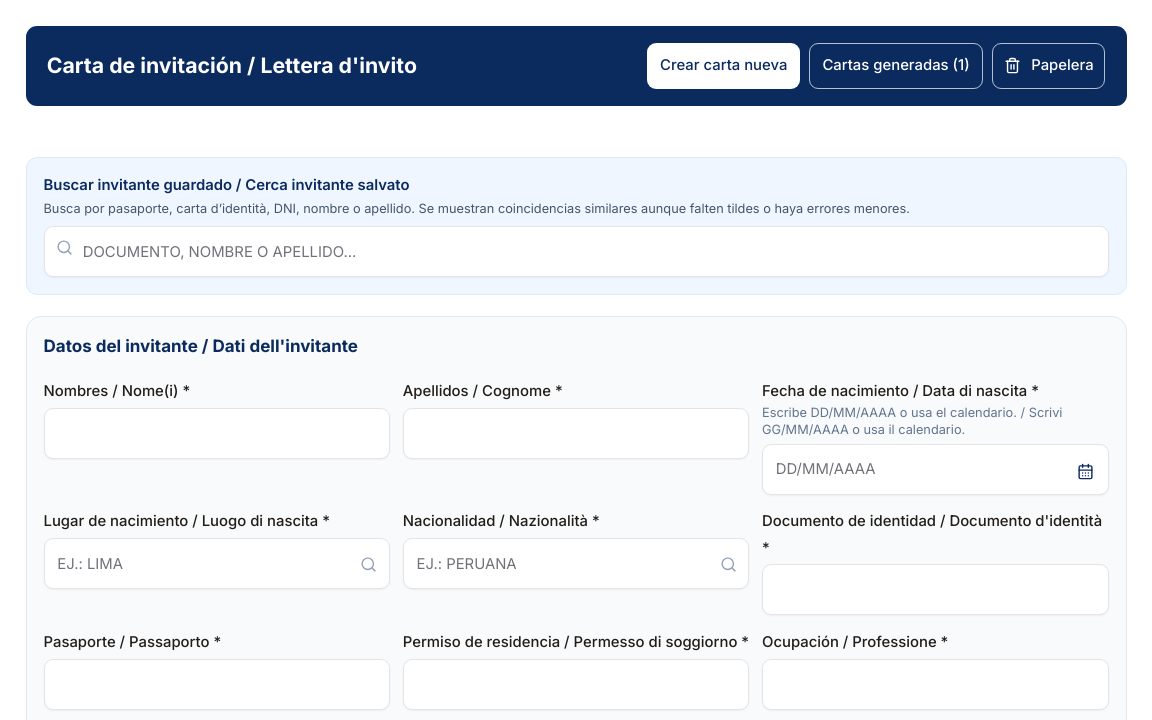
Test: InvitationLetterWorkspace › sends a letter to the reversible trash and restores it from the trash panel
Later steps or results of the test are not shown.
What coordinates should you click on to do the following:
click the tab "Cartas generadas (1)"
I would click on:
 (896, 66)
Its box is [809,42,983,89].
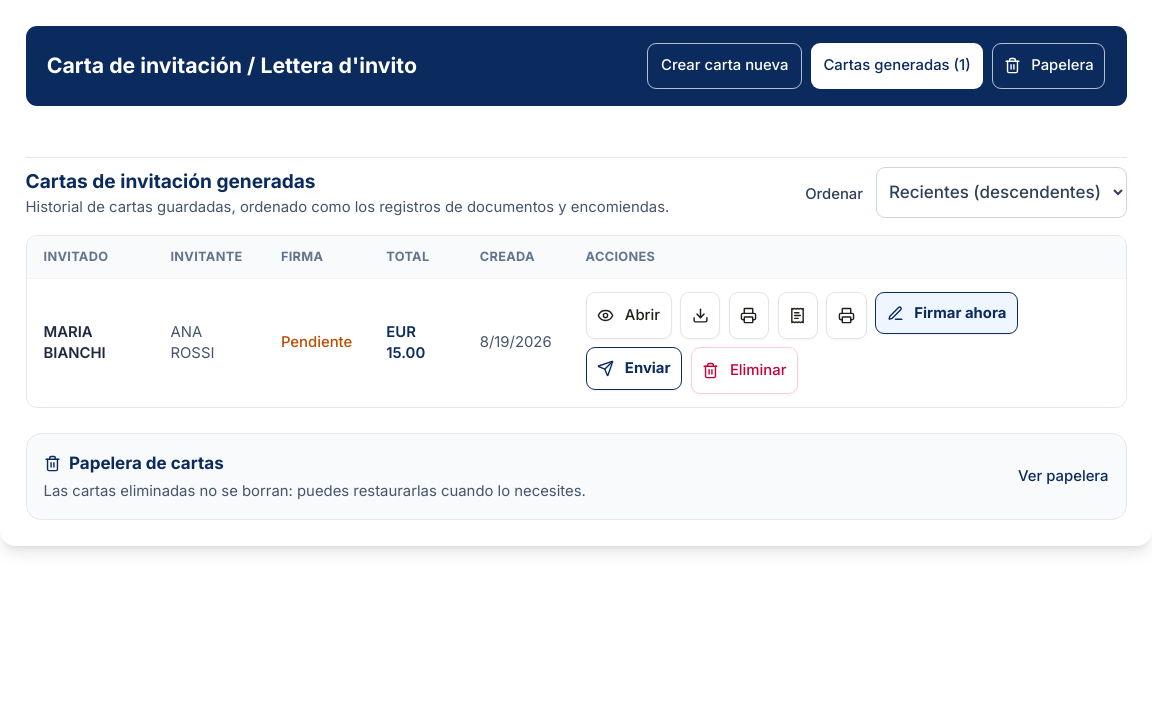
What coordinates should you click on to do the following:
click the button with aria-label "Enviar a papelera la carta de MARIA BIANCHI"
I would click on:
 (744, 371)
Its box is [691,347,798,394].
What coordinates should you click on to do the following:
click the button named "Ver papelera"
I would click on:
 (146, 463)
Its box is [44,451,1108,502].
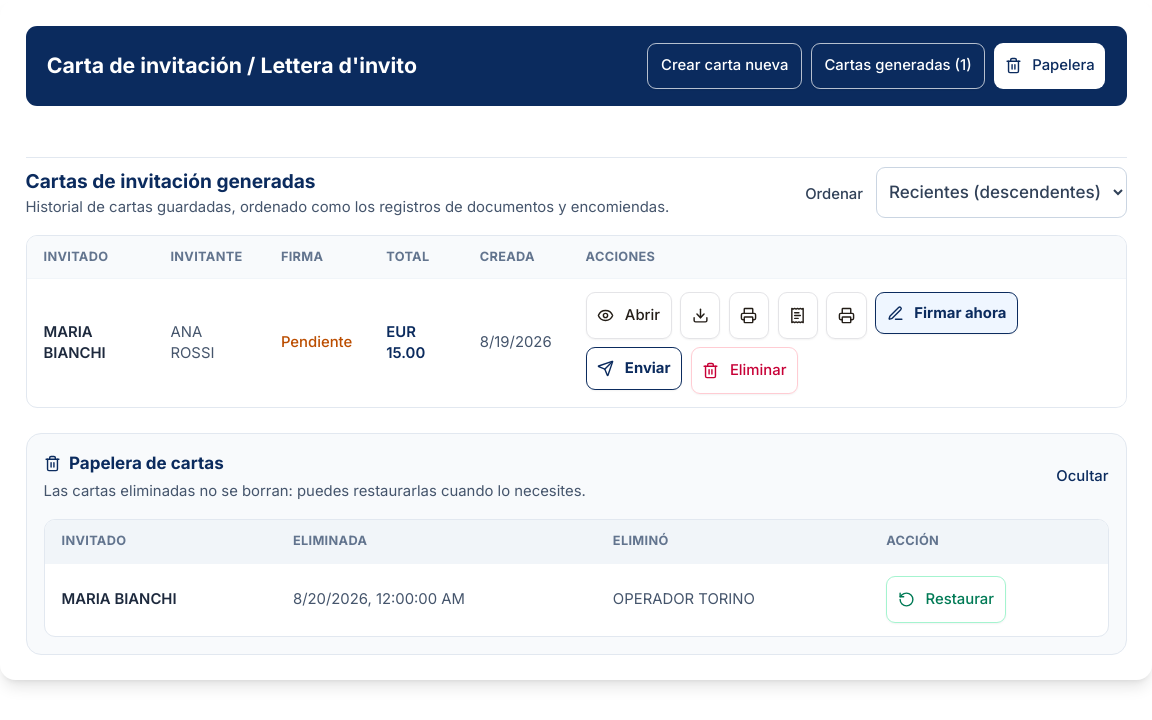
Result: the text "OPERADOR TORINO" is shown at [596,563,869,636]
